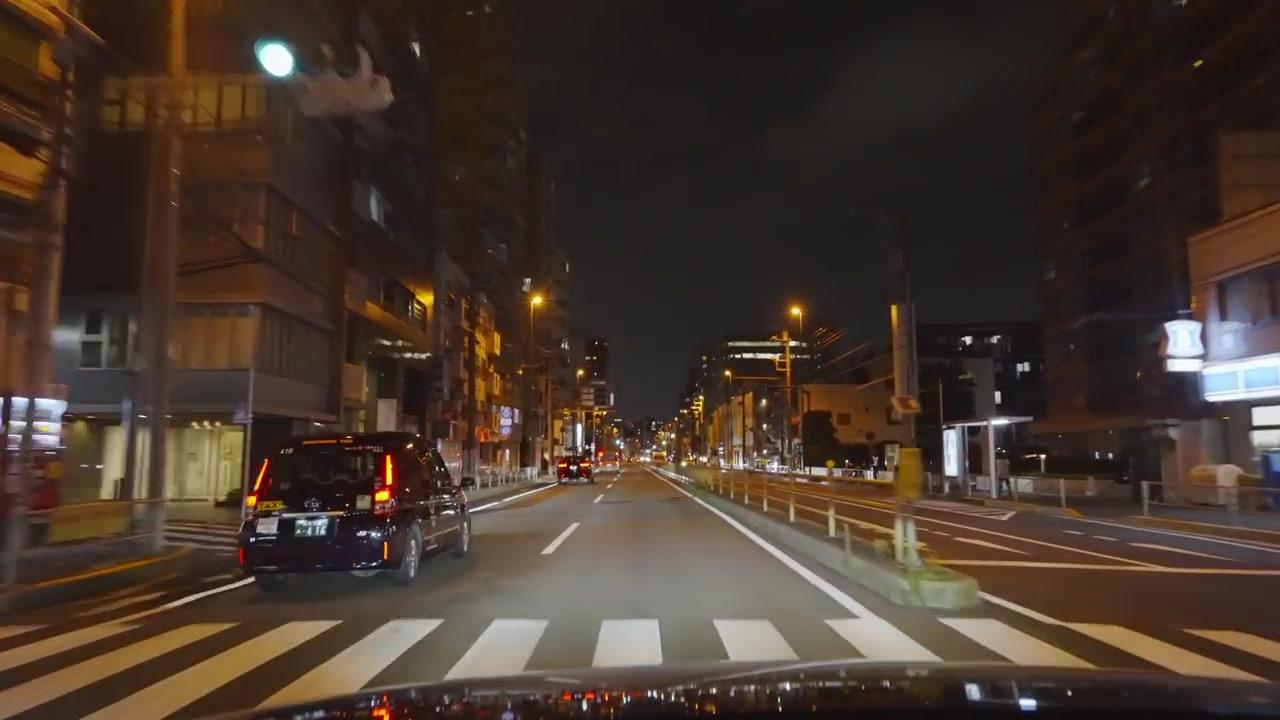car: (235, 431, 472, 588), (556, 451, 594, 483)
